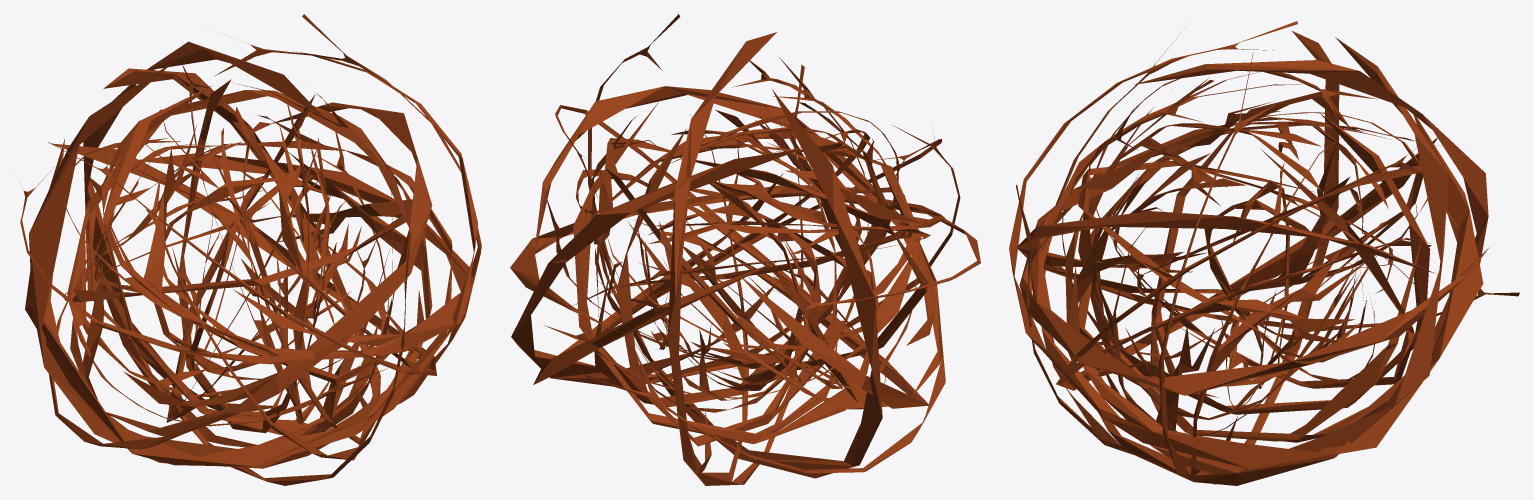
File: Tumbleweed.fbx
3 renders of one model, left to right at view 1: azimuth 30°, elevation 25°; view 2: azimuth 150°, elevation 25°; view 3: azimuth 270°, elevation 25°, orthographic. The views are drawn at different scales.
Parts seen in each view (by area): view 1: Plane.007; view 2: Plane.007; view 3: Plane.007.
Boxes of the visible parts, <box> form: Plane.007: <box>20,14,481,485</box>; Plane.007: <box>510,14,980,485</box>; Plane.007: <box>1009,21,1519,485</box>.
Size of the model in its own units: 212 by 222 by 227.
